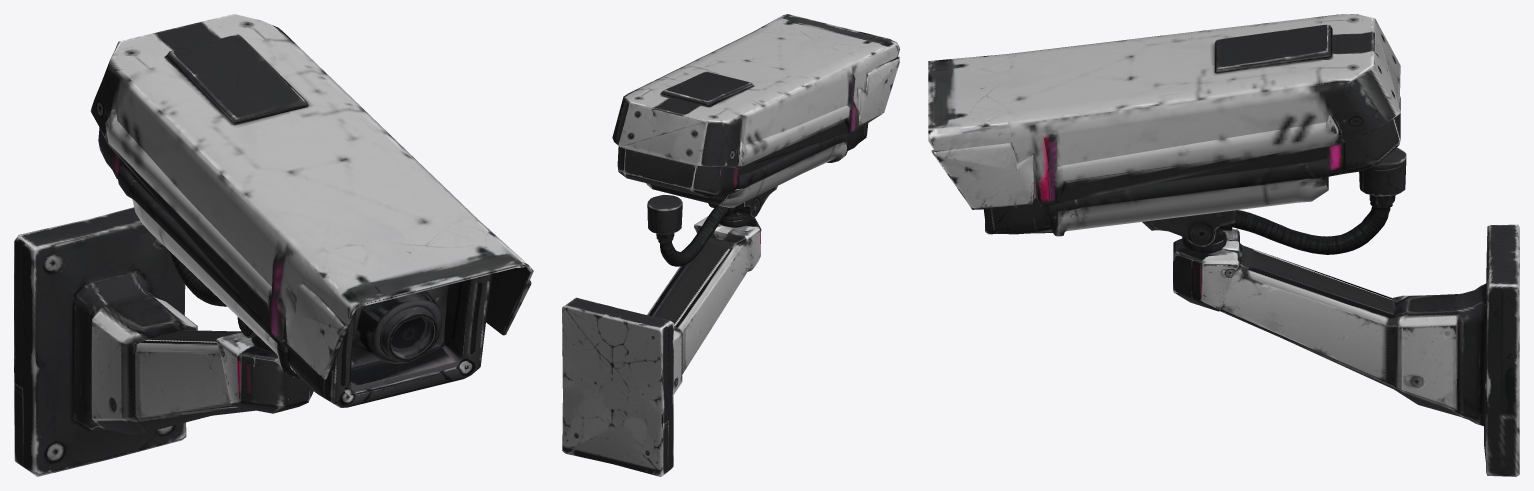
Rendered from security_camera.glb.
3 renders of one model, left to right at view 1: azimuth 30°, elevation 25°; view 2: azimuth 150°, elevation 25°; view 3: azimuth 270°, elevation 25°, orthographic. The views are drawn at different scales.
Size of the model in its own units: 0.3145 by 0.7656 by 1.
Materials: 1 (1 with a texture image).
